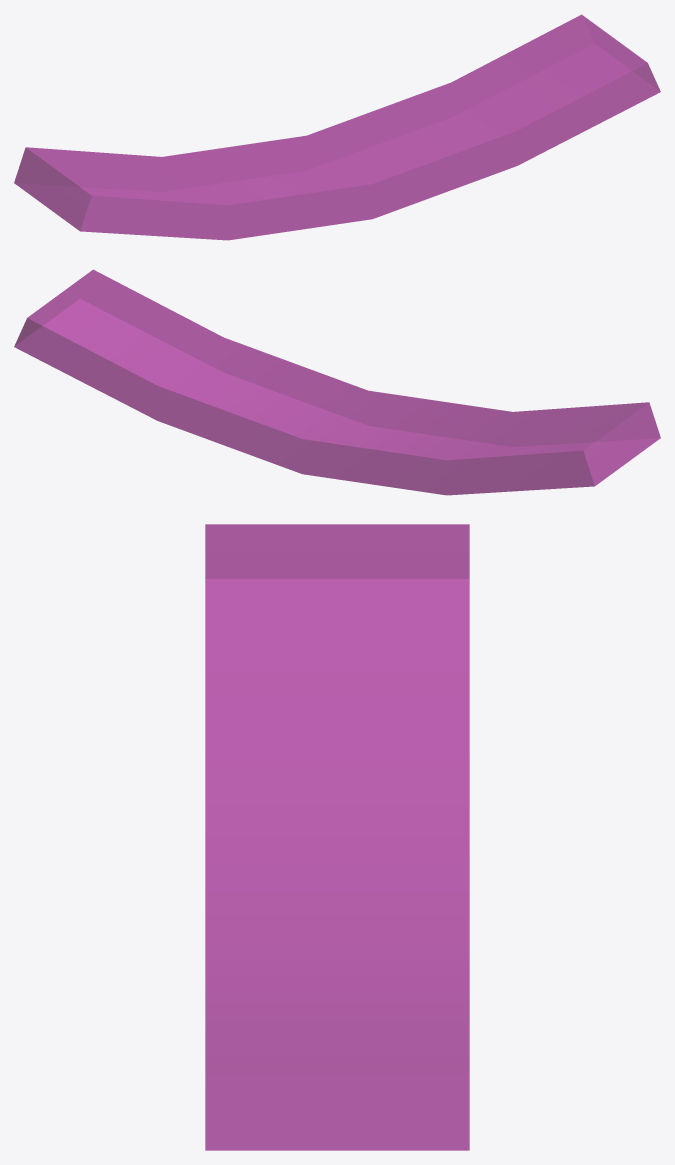
File: SM_Bld_Walkway_05_Collision.fbx
3 renders of one model, top to bottom at view 1: azimuth 30°, elevation 25°; view 2: azimuth 150°, elevation 25°; view 3: azimuth 270°, elevation 25°, orthographic. The views are drawn at different scales.
Parts seen in each view (by area): view 1: SM_Bld_Walkway_05_Collision; view 2: SM_Bld_Walkway_05_Collision; view 3: SM_Bld_Walkway_05_Collision.
Part boxes in pixels (bbox=[...]): SM_Bld_Walkway_05_Collision: bbox=[14, 14, 660, 240]; SM_Bld_Walkway_05_Collision: bbox=[14, 269, 660, 495]; SM_Bld_Walkway_05_Collision: bbox=[205, 524, 469, 1150].
Bounding box in the file's own units: 517 × 78.42 × 102.
